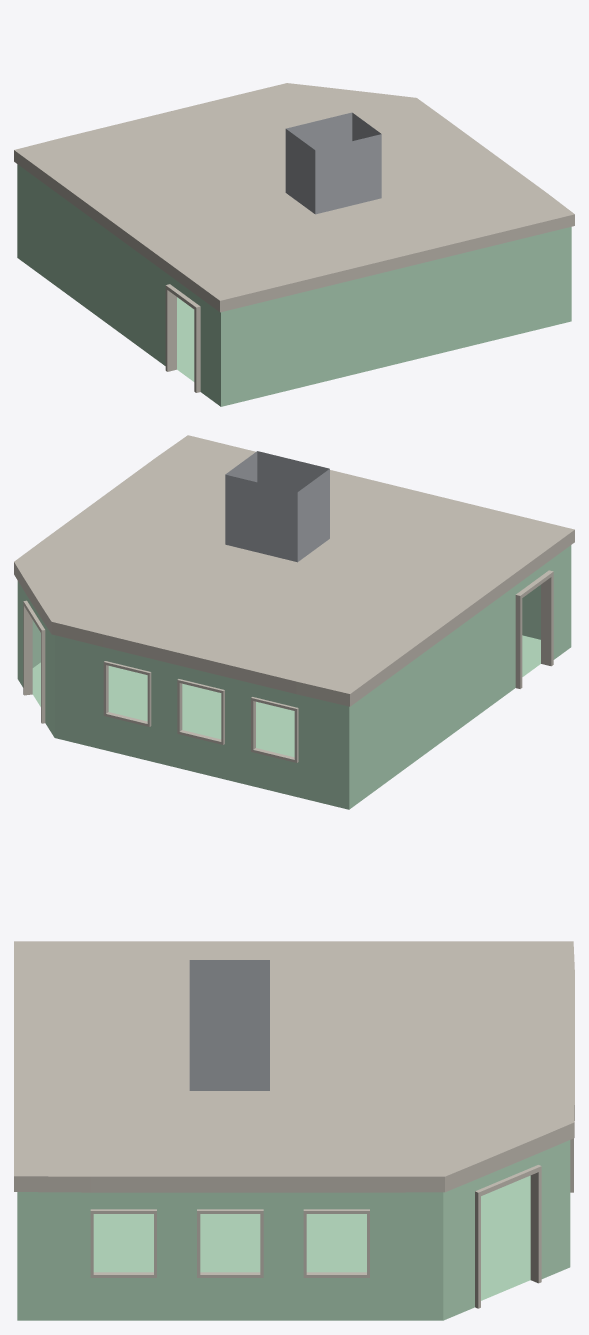
File: Bld_R_high_L2_C.fbx
3 renders of one model, top to bottom at view 1: azimuth 30°, elevation 25°; view 2: azimuth 150°, elevation 25°; view 3: azimuth 270°, elevation 25°, orthographic. The views are drawn at different scales.
Visible parts, largest first — view 1: Bld_R_high_L2_C_LOD0; view 2: Bld_R_high_L2_C_LOD0; view 3: Bld_R_high_L2_C_LOD0.
Boxes of the visible parts, <box> form: Bld_R_high_L2_C_LOD0: <box>14,83,574,406</box>; Bld_R_high_L2_C_LOD0: <box>14,435,574,809</box>; Bld_R_high_L2_C_LOD0: <box>14,941,574,1320</box>.
Size of what is drawn, in the model's own units: 1400 by 962 by 1400.
Materials: 1 (1 with a texture image).
